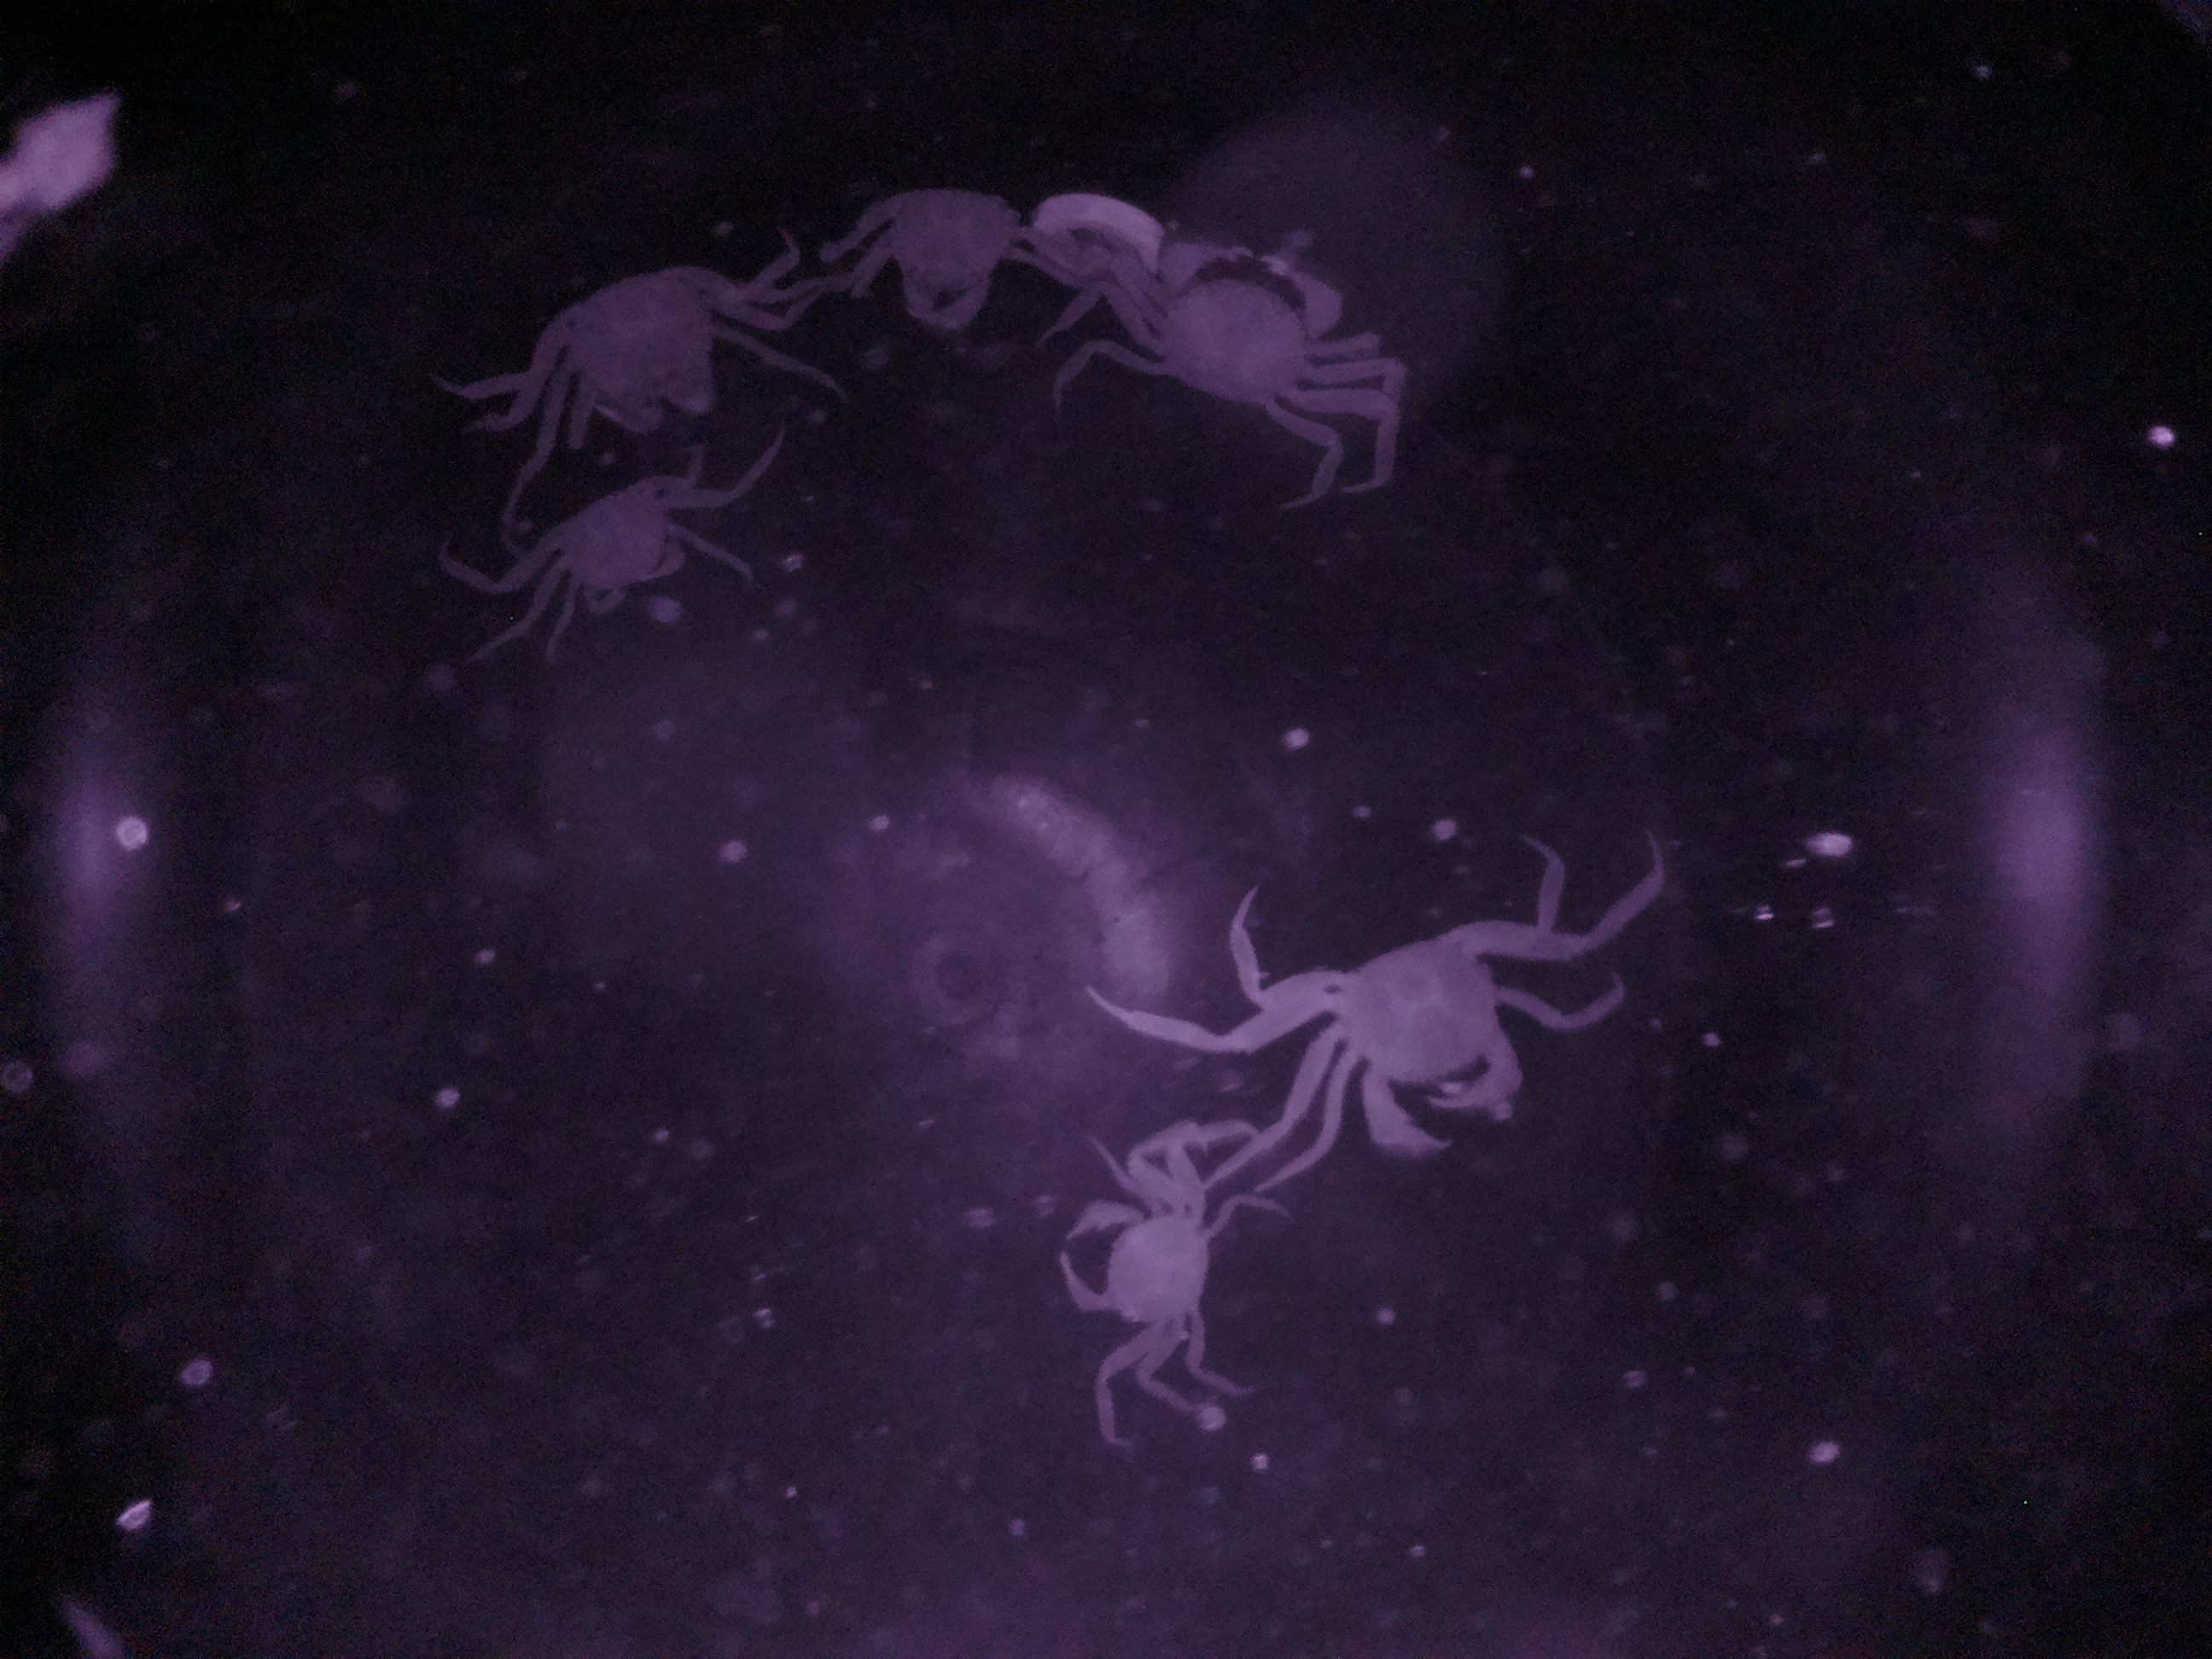Crab: (1285, 920, 1559, 1168), (1094, 227, 1378, 432), (1042, 1145, 1228, 1364), (505, 472, 737, 619)
